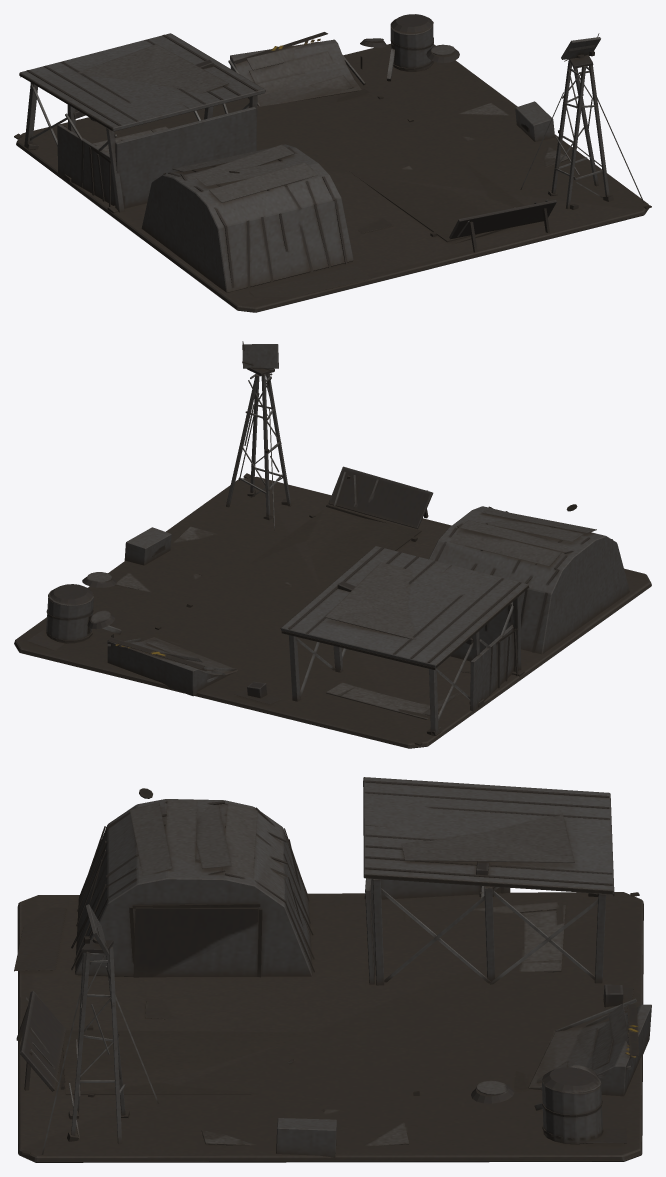
The model's file is chs_advairfield_wreck.fbx.
3 renders of one model, top to bottom at view 1: azimuth 30°, elevation 25°; view 2: azimuth 150°, elevation 25°; view 3: azimuth 270°, elevation 25°, orthographic. The views are drawn at different scales.
Parts seen in each view (by area): view 1: base_bar, radarPanel_bar; view 2: base_bar, radarPanel_bar; view 3: base_bar.
Part boxes in pixels (left/top/right/bottom): base_bar: left=14, top=14, right=651, bottom=312; radarPanel_bar: left=561, top=33, right=600, bottom=61; base_bar: left=14, top=367, right=651, bottom=748; radarPanel_bar: left=242, top=341, right=278, bottom=371; base_bar: left=14, top=777, right=651, bottom=1162.
Size of the model in its own units: 4751 by 2050 by 4769.
Materials: 2 (2 with a texture image).
